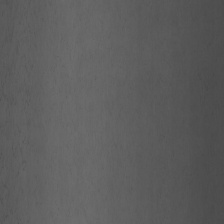silk_spot: (3, 28, 37, 158)
